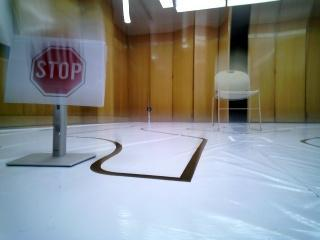stop: (2, 34, 108, 109)
